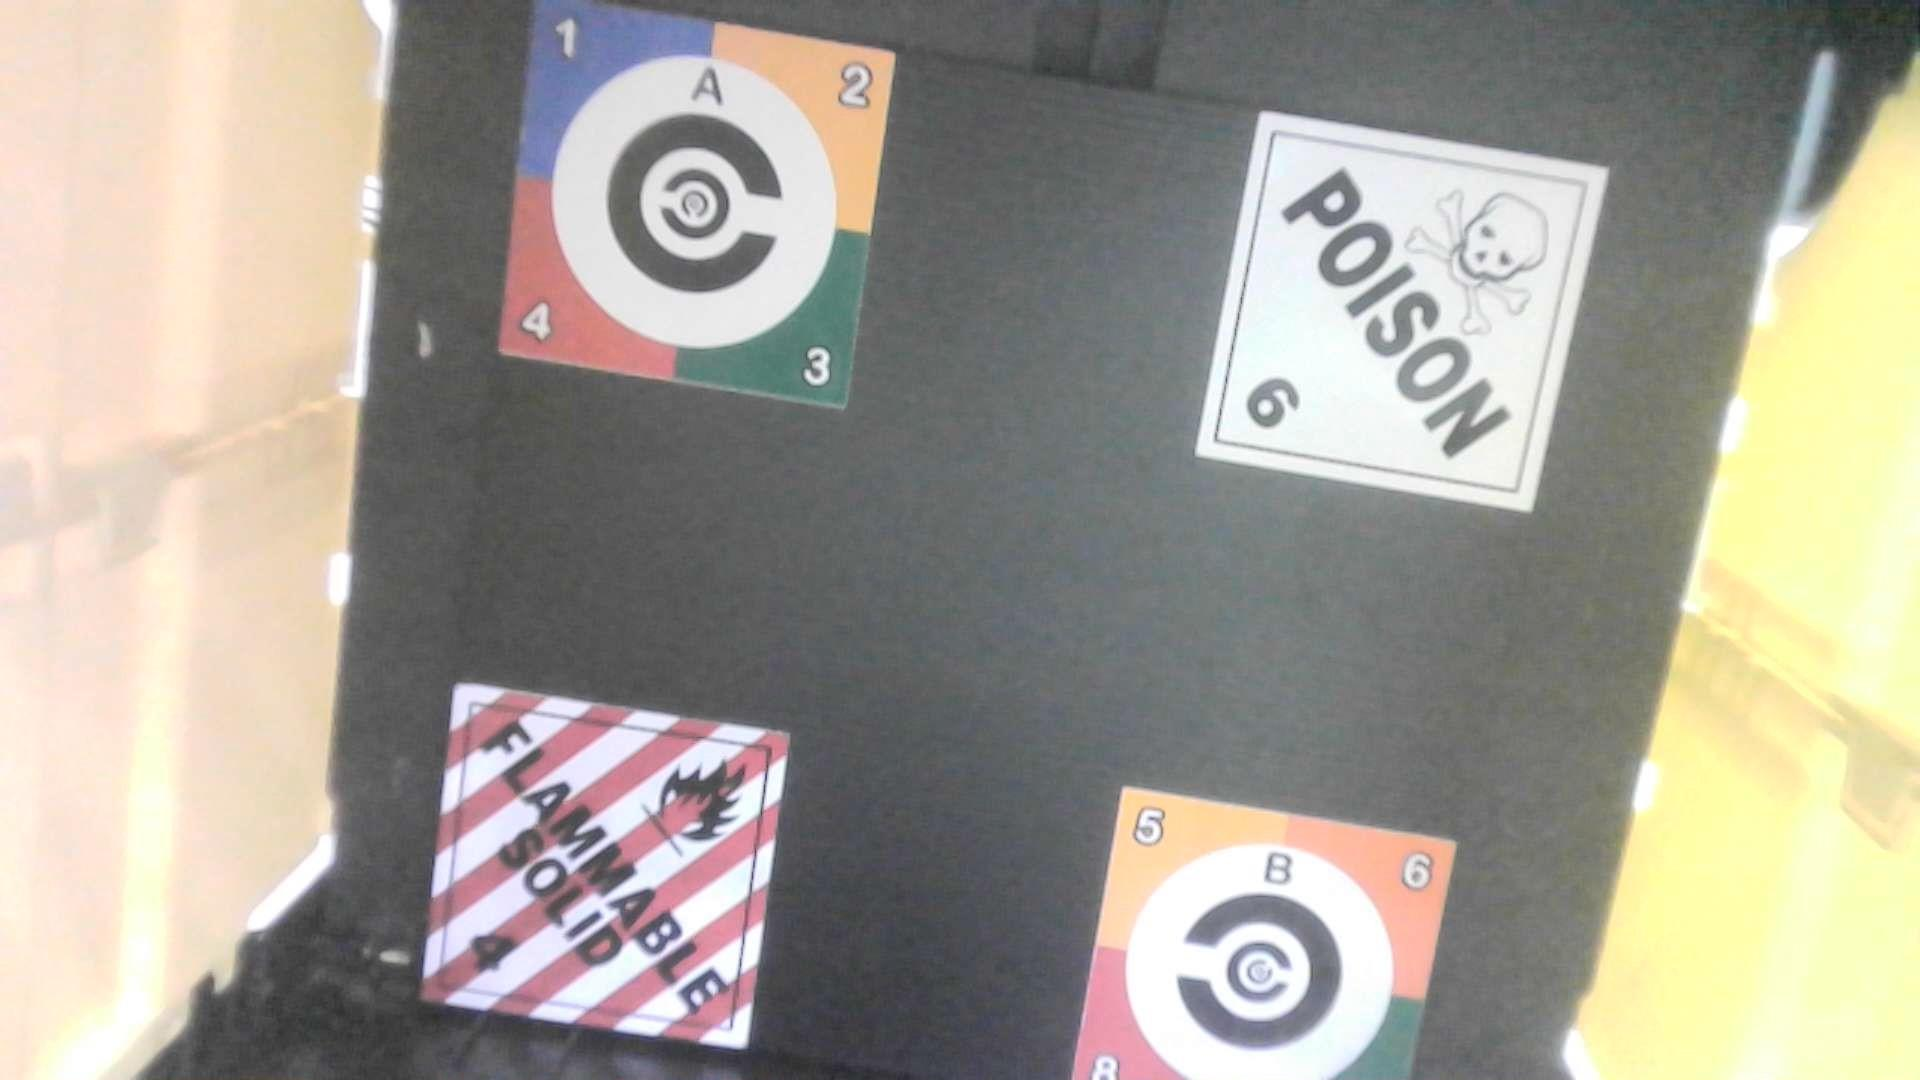flammable-solid: (414, 676, 790, 1048)
poison: (1199, 112, 1619, 516)
